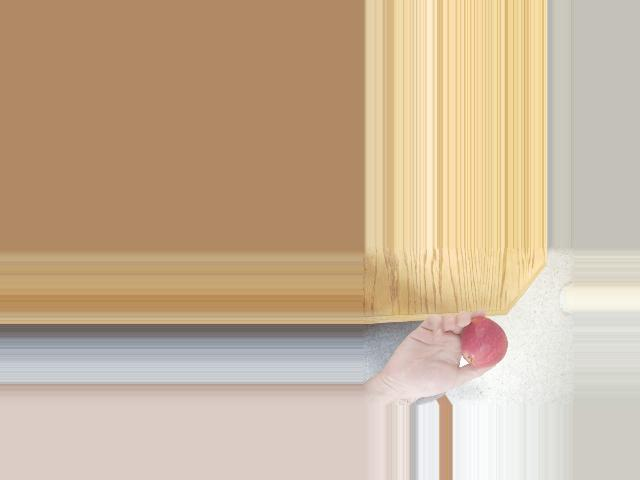apple: (459, 318, 509, 368)
